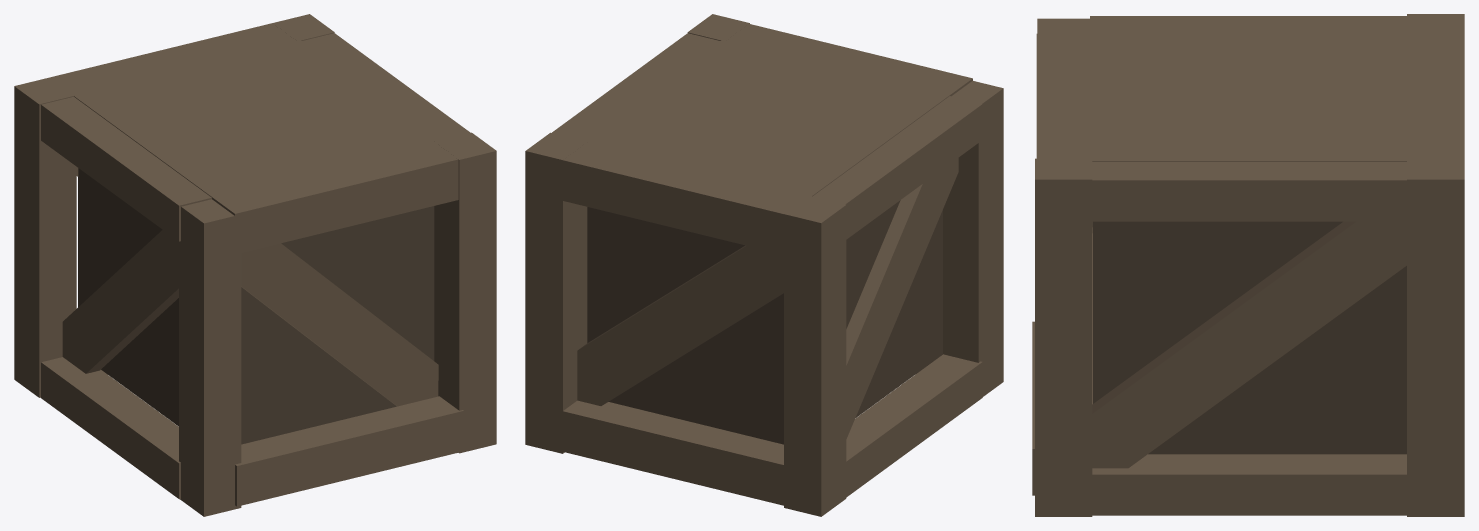
The model's file is woodcrate1.fbx.
3 renders of one model, left to right at view 1: azimuth 30°, elevation 25°; view 2: azimuth 150°, elevation 25°; view 3: azimuth 270°, elevation 25°, orthographic. The views are drawn at different scales.
Parts seen in each view (by area): view 1: Cube.010, Cube.016, Cube.001, Cube.002, Cube.004, Cube.011, Cube.015, Cube.007, Cube.008, Cube.014, Cube.005, Cube.003; view 2: Cube.010, Cube.016, Cube.004, Cube.003, Cube.001, Cube.013, Cube.009, Cube.014, Cube.007, Cube.008, Cube.005, Cube.002; view 3: Cube.010, Cube.016, Cube.012, Cube.003, Cube.002, Cube.005, Cube.006, Cube.007, Cube.004, Cube.001, Cube.011.
Part boxes in pixels (x1,y1,x2,y2): Cube.010: (52,23,458,254); Cube.016: (78,168,434,444); Cube.001: (179,199,241,516); Cube.002: (434,132,496,453); Cube.004: (14,77,76,397); Cube.011: (235,396,463,506); Cube.015: (241,243,438,406); Cube.007: (41,96,211,241); Cube.008: (41,357,180,499); Cube.014: (62,230,178,373); Cube.005: (302,33,470,140); Cube.003: (272,14,334,41); Cube.010: (559,24,972,255); Cube.016: (587,200,942,444); Cube.004: (784,196,846,516); Cube.003: (525,132,587,453); Cube.001: (941,81,1003,396); Cube.013: (577,245,783,405); Cube.009: (559,400,786,506); Cube.014: (846,158,958,438); Cube.007: (812,96,982,239); Cube.008: (846,354,982,497); Cube.005: (552,33,720,140); Cube.002: (687,14,749,41); Cube.010: (1036,33,1464,161); Cube.016: (1093,221,1406,454); Cube.012: (1092,221,1406,468); Cube.003: (1407,158,1464,516); Cube.002: (1035,158,1092,516); Cube.005: (1092,161,1406,221); Cube.006: (1092,454,1406,515); Cube.007: (1090,16,1406,33); Cube.004: (1407,14,1464,34); Cube.001: (1037,18,1092,232); Cube.011: (1032,321,1034,495).
Size of the model in its own units: 967 by 924 by 1066.
